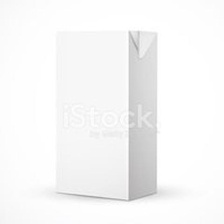carton: (52, 26, 166, 205)
